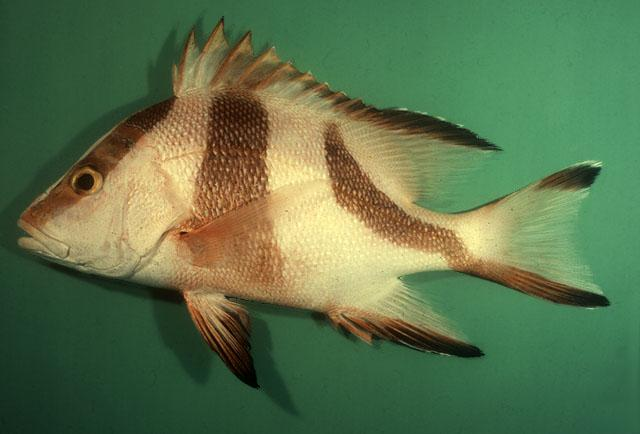Mulut: (4, 197, 62, 273)
Sirip Anal: (316, 271, 494, 371)
Sirip Dada: (156, 171, 347, 277)
Sirip Ekor: (463, 146, 623, 332)
Sirip Perut: (176, 277, 270, 401)
Sirip Punggung: (163, 9, 511, 211)
